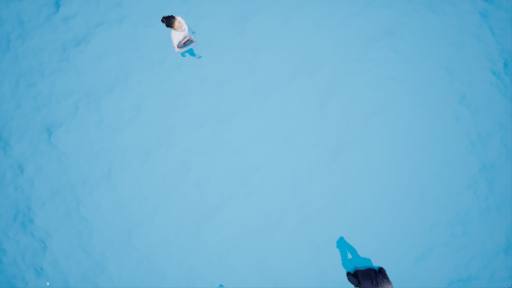person: (337, 227, 395, 288), (160, 10, 205, 60)
